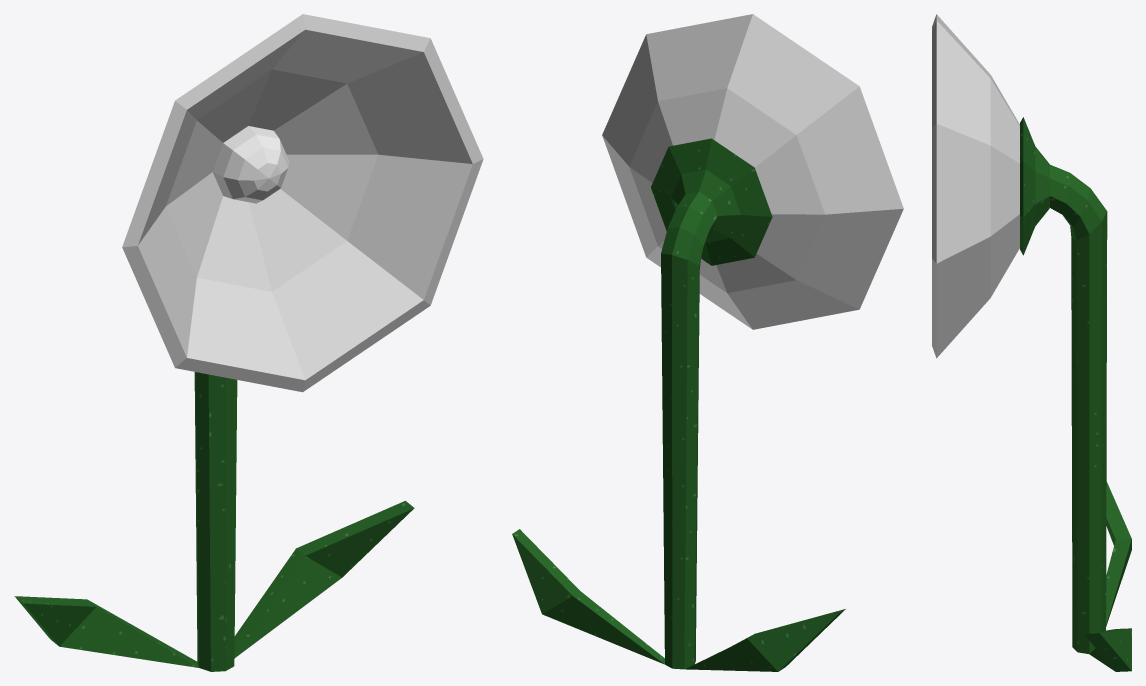
File: flower.fbx
The picture shows the model from 3 angles, left to right: view 1: azimuth 30°, elevation 25°; view 2: azimuth 150°, elevation 25°; view 3: azimuth 270°, elevation 25°; orthographic projection. The views are drawn at different scales.
Visible parts, largest first — view 1: Sphere.002, Sphere, Sphere.001; view 2: Sphere.002, Sphere; view 3: Sphere, Sphere.002.
Part boxes in pixels (x1=…): Sphere.002: x1=122, y1=14, x2=483, y2=392; Sphere: x1=14, y1=372, x2=414, y2=671; Sphere.001: x1=213, y1=126, x2=289, y2=203; Sphere.002: x1=602, y1=14, x2=903, y2=329; Sphere: x1=512, y1=138, x2=845, y2=671; Sphere: x1=1020, y1=117, x2=1131, y2=671; Sphere.002: x1=932, y1=14, x2=1019, y2=358.
Bounding box in the file's own units: 1094 × 1908 × 551.
